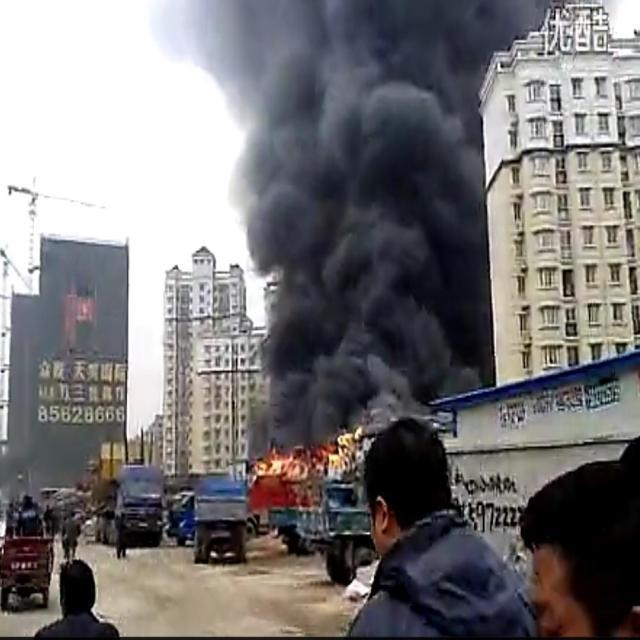Fire: (246, 428, 366, 486)
Smoke: (184, 1, 566, 427)
